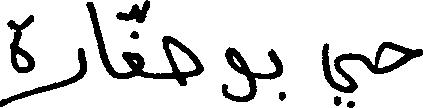X: (46, 0, 86, 95), (0, 10, 33, 107), (321, 38, 362, 107), (164, 31, 202, 90), (223, 42, 255, 106), (375, 37, 422, 78), (88, 0, 111, 80), (123, 0, 143, 83), (268, 44, 282, 105)
